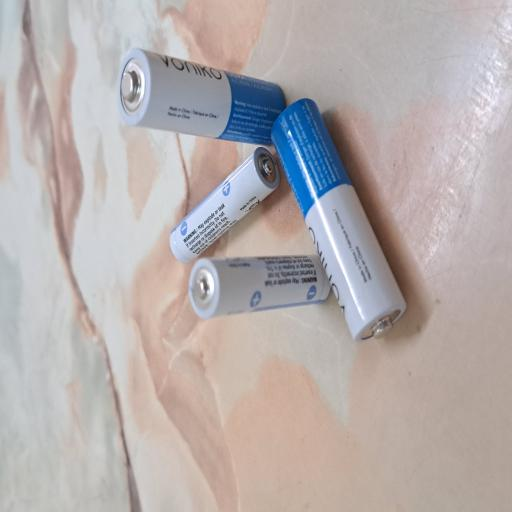battery: (127, 360, 311, 512), (276, 154, 346, 380), (186, 224, 275, 374), (146, 252, 196, 440)
